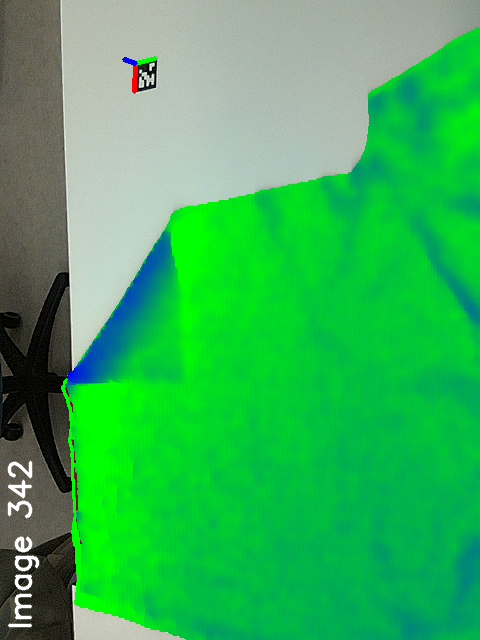V: (143, 341, 206, 388)
